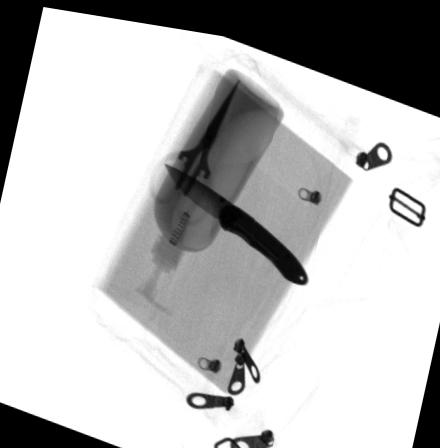Knife: (162, 157, 309, 275)
Scissors: (146, 71, 240, 231)
